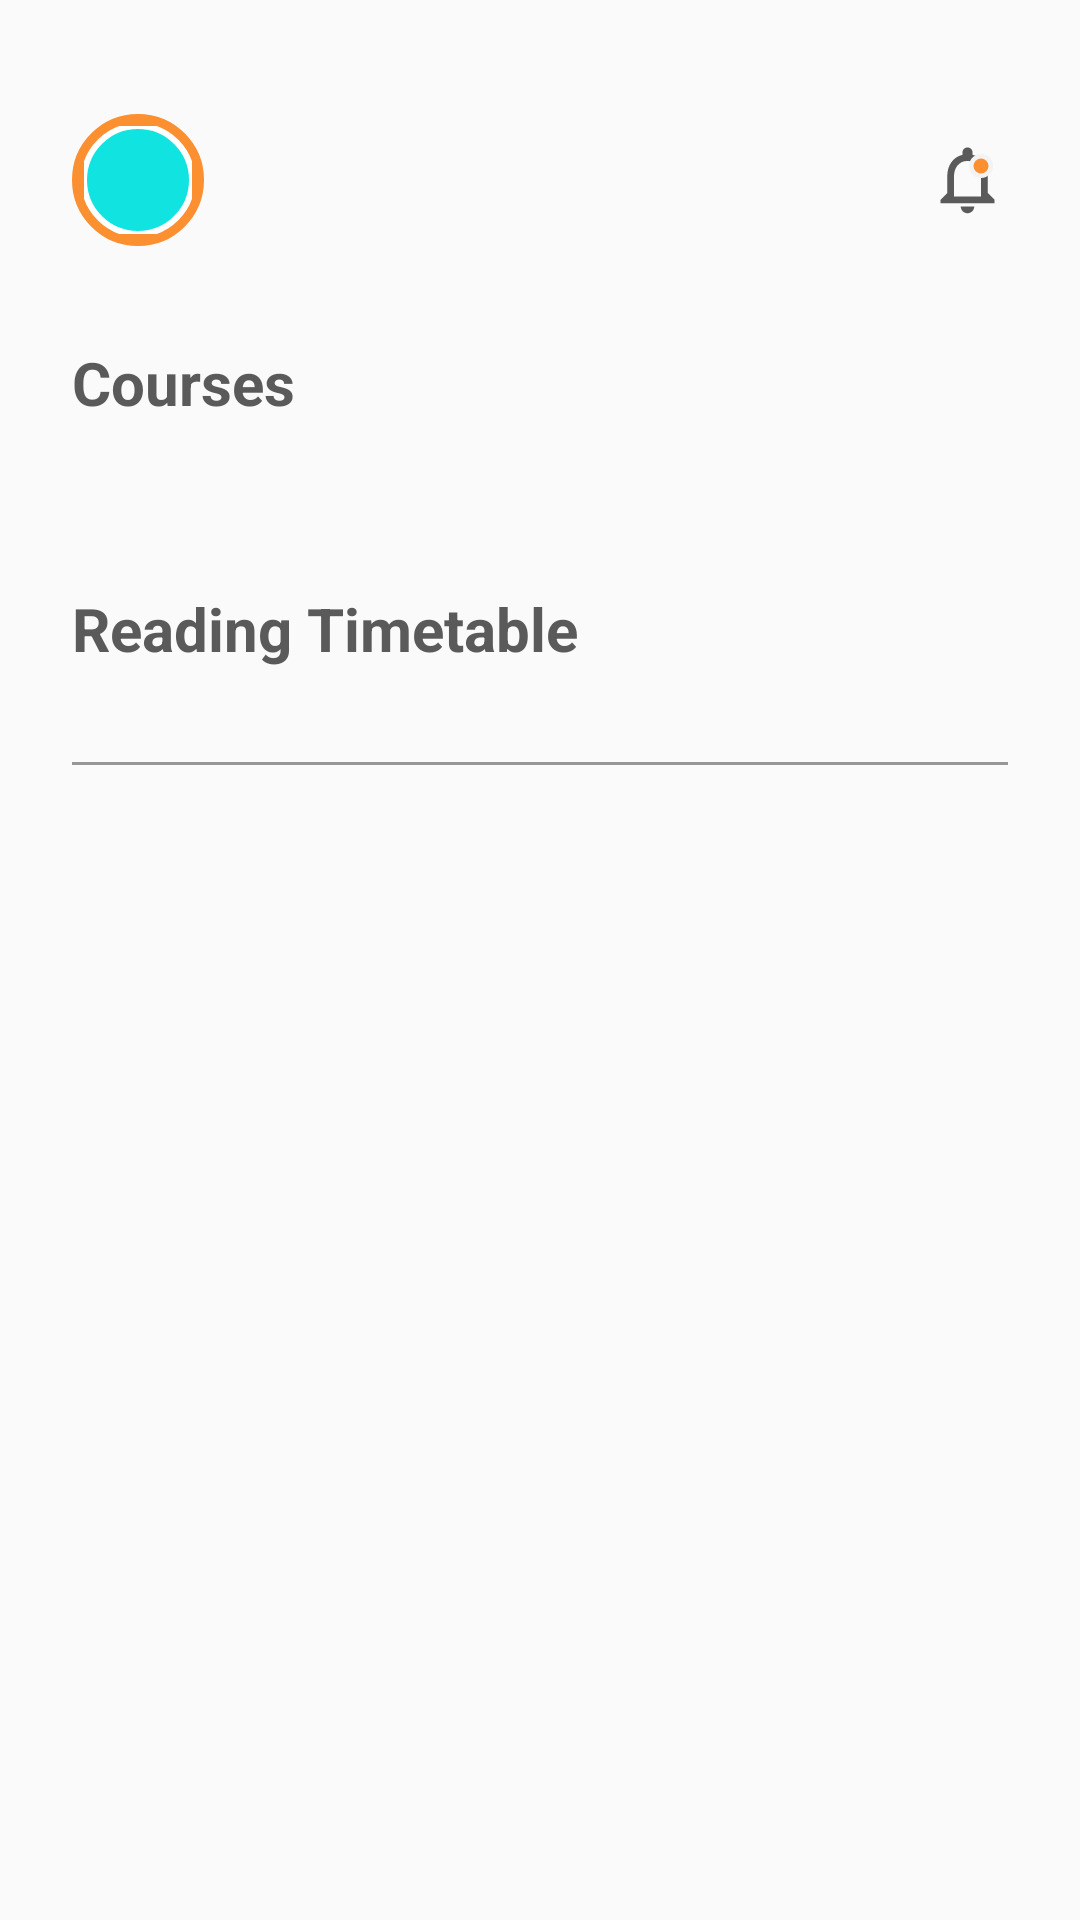

Icons on this 1080px x 1920px Android screen, each with the point to tap as (x=x, y=y):
notifications: (x=967, y=180)
